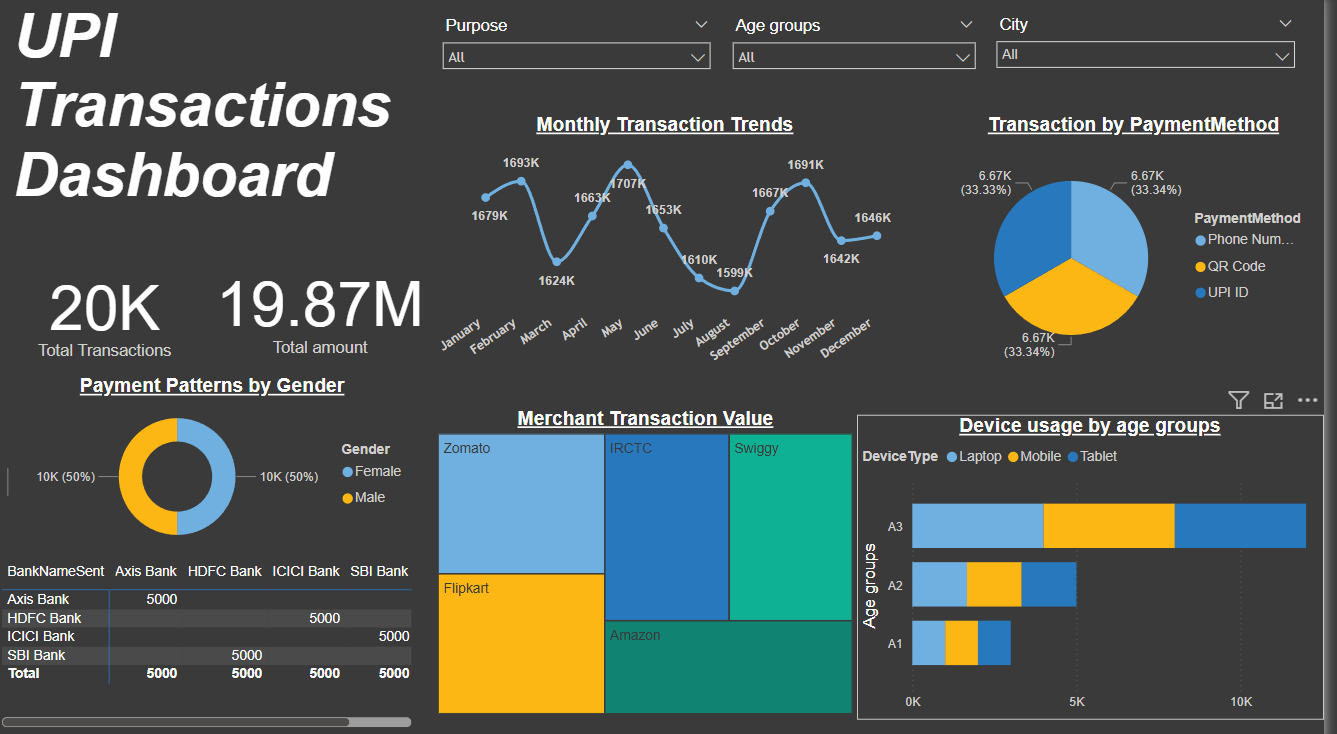

What the dashboard file says about the page in this screenshot:
{"tool":"powerbi","page":{"name":"Page 1","canvas":[1280,720],"ordinal":0},"visuals":[{"type":"textbox","box":[11.4,0,393.9,228.5],"z":0},{"type":"slicer","fields":{"Values":["Sheet1.Purpose"]},"box":[420.4,13.9,279,70.7],"z":1000},{"type":"slicer","fields":{"Values":["Sheet1.Age groups"]},"box":[699.5,13.9,255,70.7],"z":2000},{"type":"slicer","fields":{"Values":["Sheet1.TransactionType"]},"box":[0,425.9,309.8,71.2],"z":3000},{"type":"lineChart","title":"Transactions by Month","fields":{"Category":["Sheet1.TransactionDate.Variation.Date Hierarchy.Month"],"Y":["Sum(Sheet1.Amount)"]},"box":[420.9,113.7,447.2,258.5],"z":4000},{"type":"donutChart","title":"Transaction by Gender","fields":{"Category":["Sheet1.Gender"],"Y":["CountNonNull(Sheet1.TransactionID)"]},"box":[11.2,366,393.4,176.1],"z":5000},{"type":"treemap","fields":{"Group":["Sheet1.MerchantName"],"Values":["Sum(Sheet1.Amount)"]},"box":[420.9,397.2,409.7,301],"z":6000},{"type":"pivotTable","fields":{"Rows":["Sheet1.BankNameSent"],"Columns":["Sheet1.BankNameReceived"],"Values":["CountNonNull(Sheet1.TransactionID)"]},"box":[0,542.1,404.7,168.6],"z":7000},{"type":"card","fields":{"Values":["CountNonNull(Sheet1.Total Transactions)"]},"box":[6.2,243.6,196.1,122.4],"z":8000},{"type":"card","fields":{"Values":["Sheet1.Total amount"]},"box":[202.3,243.6,218.6,116.2],"z":9000},{"type":"slicer","fields":{"Values":["Sheet1.City"]},"box":[954.3,13.7,308.5,56.2],"z":10000},{"type":"pieChart","fields":{"Category":["Sheet1.PaymentMethod"],"Y":["CountNonNull(Sheet1.TransactionID)"]},"box":[913,113.7,367.2,258.5],"z":11000},{"type":"barChart","title":"Device usage by age groups","fields":{"Category":["Sheet1.Age groups"],"Y":["CountNonNull(Sheet1.TransactionID)"],"Series":["Sheet1.DeviceType"]},"box":[830.6,404.7,449.7,293.5],"z":12000}]}

Visuals, with their boxes in screenshot pixels (x1, y1, x2, y2), scaled from the page's 1280x720 canvas onto the 1337x734 screenshot:
textbox: 12:0:423:233
slicer - Sheet1.Purpose: 439:14:731:86
slicer - Sheet1.Age groups: 731:14:997:86
slicer - Sheet1.TransactionType: 0:434:324:507
"Transactions by Month" lineChart: 440:116:907:379
"Transaction by Gender" donutChart: 12:373:423:553
treemap - Sheet1.MerchantName x Sum(Sheet1.Amount): 440:405:868:712
pivotTable - Sheet1.BankNameSent x Sheet1.BankNameReceived: 0:553:423:725
card - CountNonNull(Sheet1.Total Transactions): 6:248:211:373
card - Sheet1.Total amount: 211:248:440:367
slicer - Sheet1.City: 997:14:1319:71
pieChart - Sheet1.PaymentMethod x CountNonNull(Sheet1.TransactionID): 954:116:1336:379
"Device usage by age groups" barChart: 868:413:1336:712
